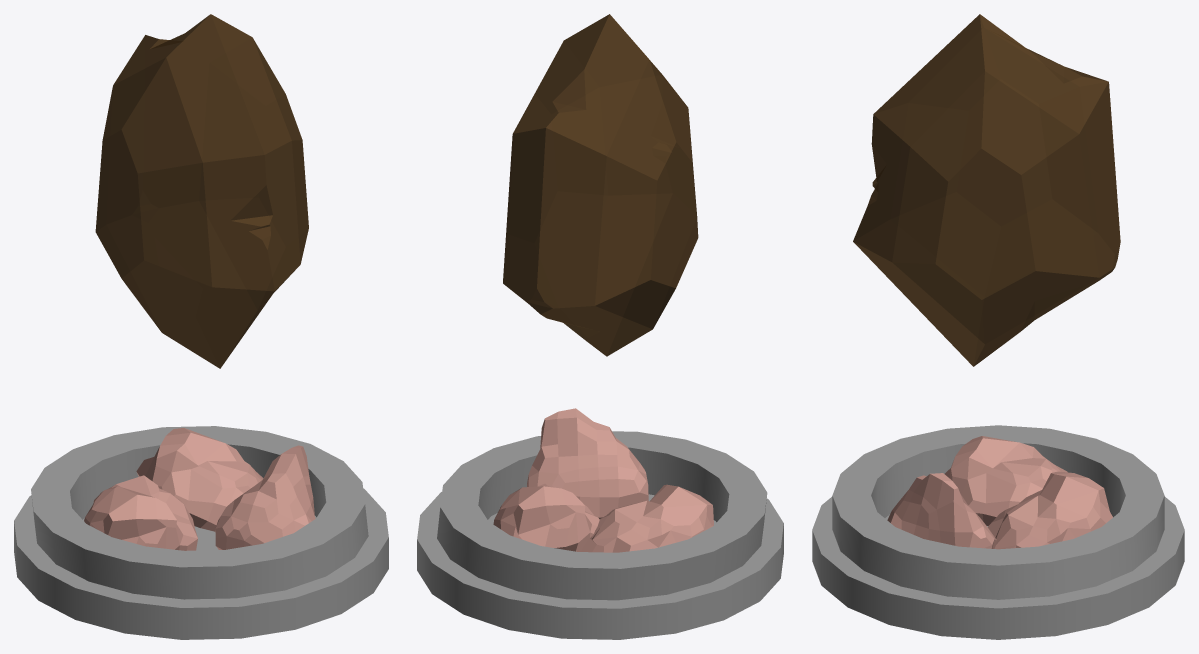
Rendered from Cristal_Sólido.fbx.
3 views of the same model, side by side, from view 1: azimuth 30°, elevation 25°; view 2: azimuth 150°, elevation 25°; view 3: azimuth 270°, elevation 25° (orthographic). The views are drawn at different scales.
Parts seen in each view (by area): view 1: Cube, Plataforma, Cube.003, Cube.002, Cube.001; view 2: Cube, Plataforma, Cube.002, Cube.001, Cube.003; view 3: Cube, Plataforma, Cube.003, Cube.001, Cube.002.
Part boxes in pixels (x1,y1,x2,y2): Cube: (95,14,308,368); Plataforma: (14,426,388,639); Cube.003: (136,428,263,531); Cube.002: (215,445,315,549); Cube.001: (84,475,197,550); Cube: (503,14,698,356); Plataforma: (417,431,783,639); Cube.002: (527,408,648,518); Cube.001: (580,484,713,552); Cube.003: (493,483,599,551); Cube: (853,14,1120,366); Plataforma: (812,425,1184,639); Cube.003: (988,471,1112,549); Cube.001: (945,436,1067,525); Cube.002: (887,473,996,548).
Bounding box in the file's own units: 651 × 1055 × 651.
